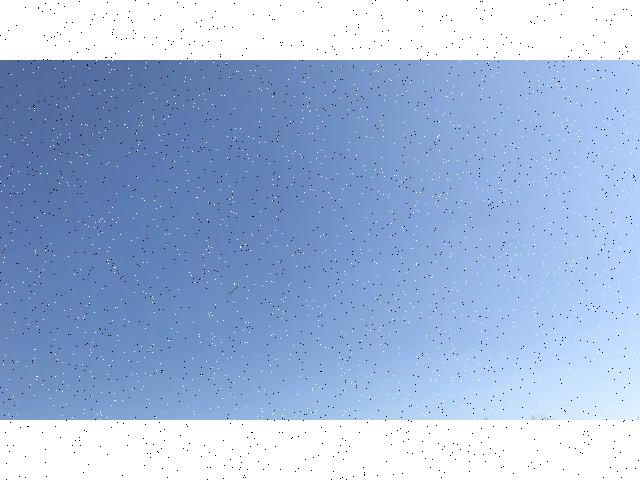Anti-Drone: (222, 278, 252, 304)
